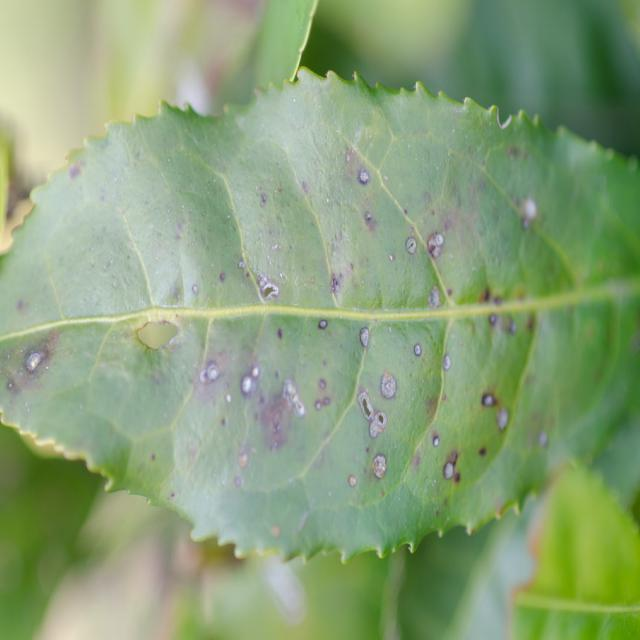Tea red scab: (225, 242, 299, 312), (345, 149, 385, 227), (401, 214, 451, 271), (271, 376, 304, 437), (348, 450, 394, 493), (349, 308, 375, 362), (358, 389, 383, 444), (235, 357, 263, 401), (203, 352, 222, 393), (384, 363, 398, 404), (406, 328, 418, 366), (445, 344, 456, 374)
